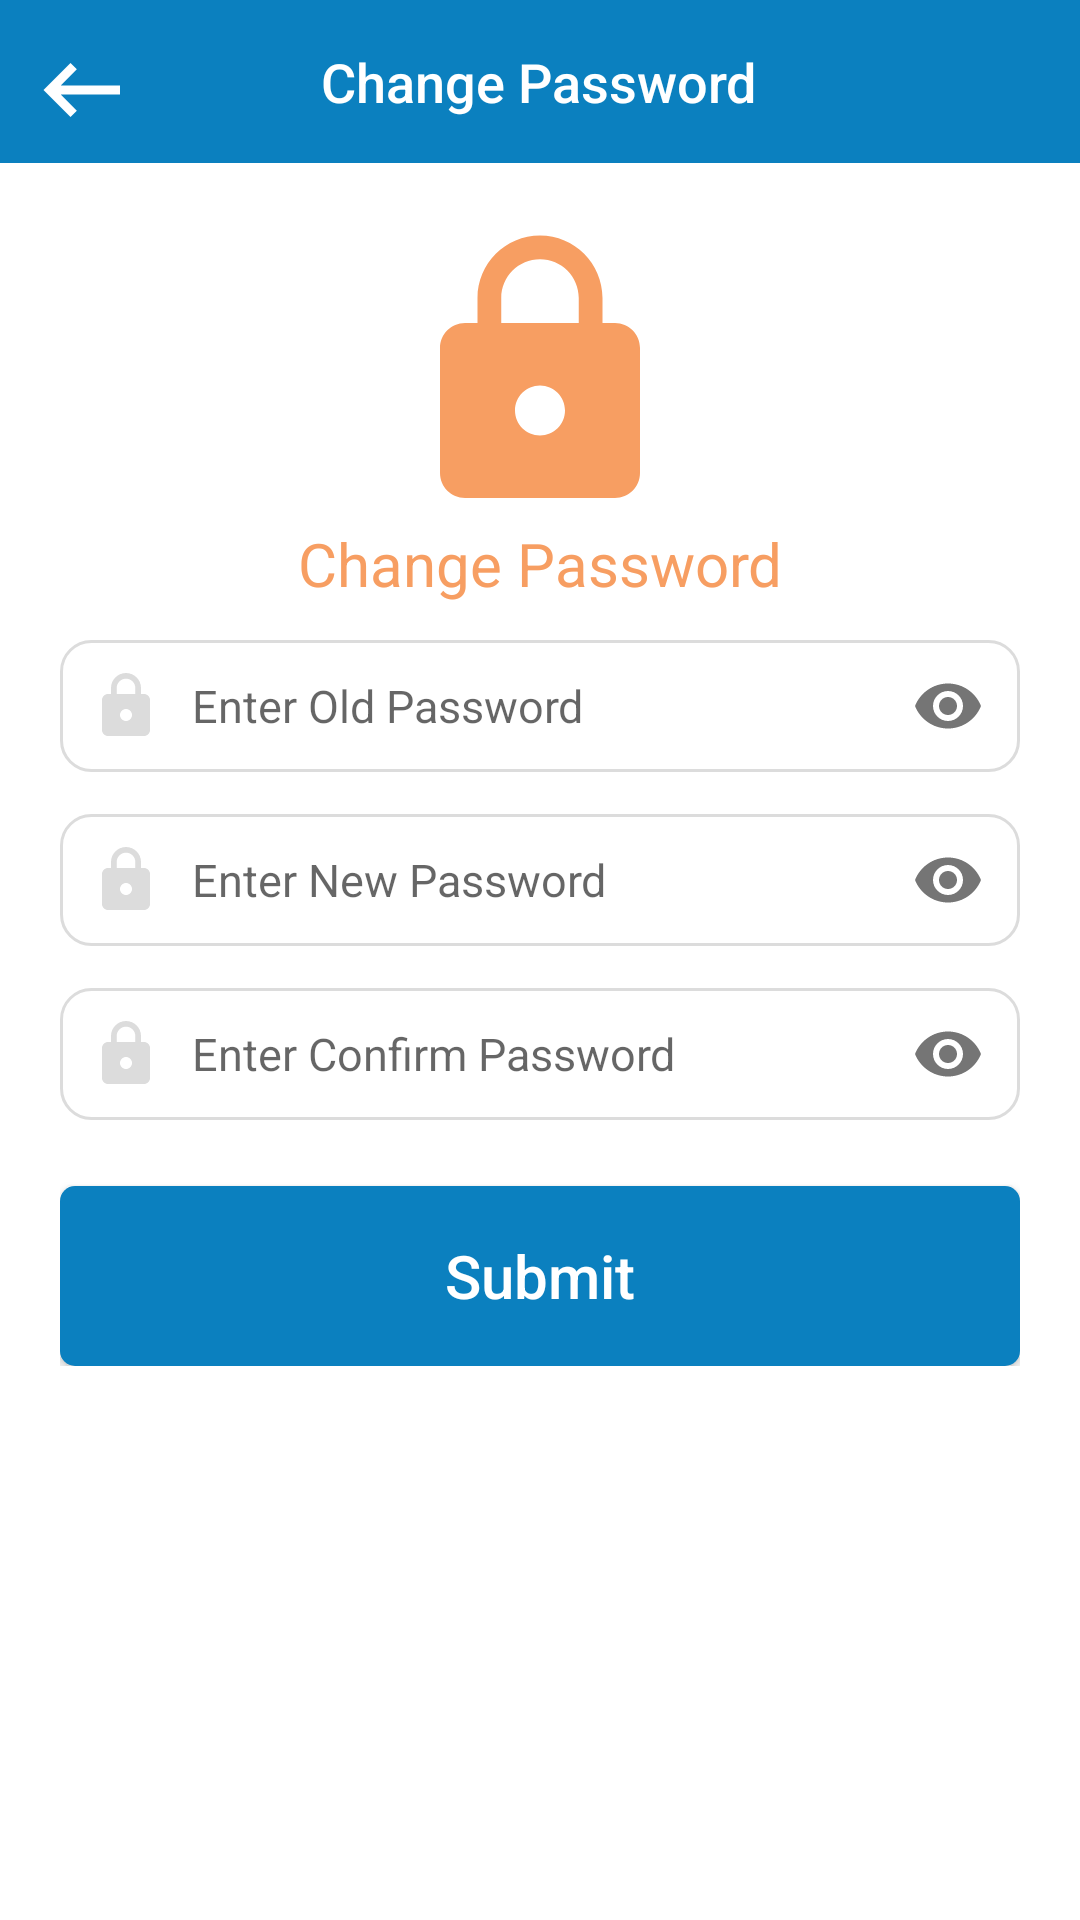

Where icons sit on this 1080*1920 app screen, as (x1, y1, x2, y2):
lock: (440, 235, 640, 498)
